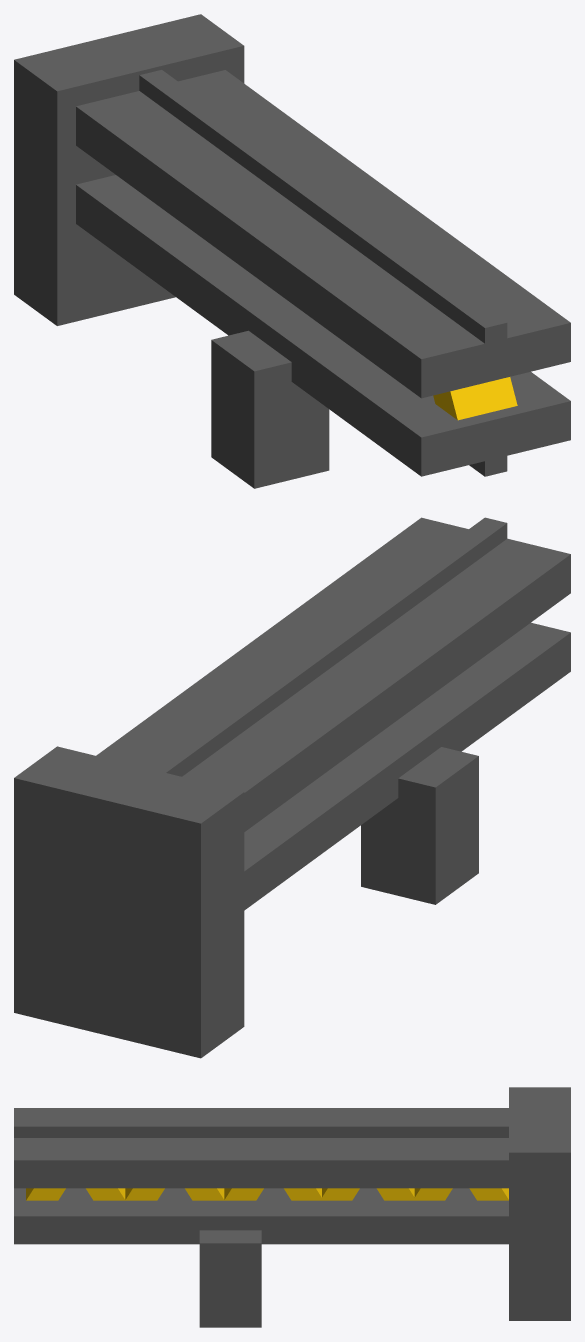
File: PrototRailgun.fbx
The picture shows the model from 3 angles, top to bottom: view 1: azimuth 30°, elevation 25°; view 2: azimuth 150°, elevation 25°; view 3: azimuth 270°, elevation 25°; orthographic projection. The views are drawn at different scales.
Visible parts, largest first — view 1: Cube.013, Cube.003; view 2: Cube.013; view 3: Cube.013, Cube.003.
Part boxes in pixels (x1=…): Cube.013: x1=14, y1=14, x2=570, y2=488; Cube.003: x1=433, y1=377, x2=517, y2=420; Cube.013: x1=14, y1=517, x2=570, y2=1058; Cube.013: x1=14, y1=1087, x2=570, y2=1327; Cube.003: x1=26, y1=1188, x2=508, y2=1200.
Bounding box in the file's own units: 60 × 60 × 180.
